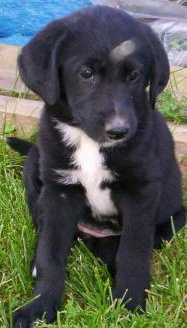dog: (4, 4, 187, 307)
